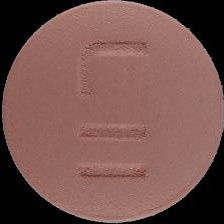70786-0060: (0, 0, 224, 224)
